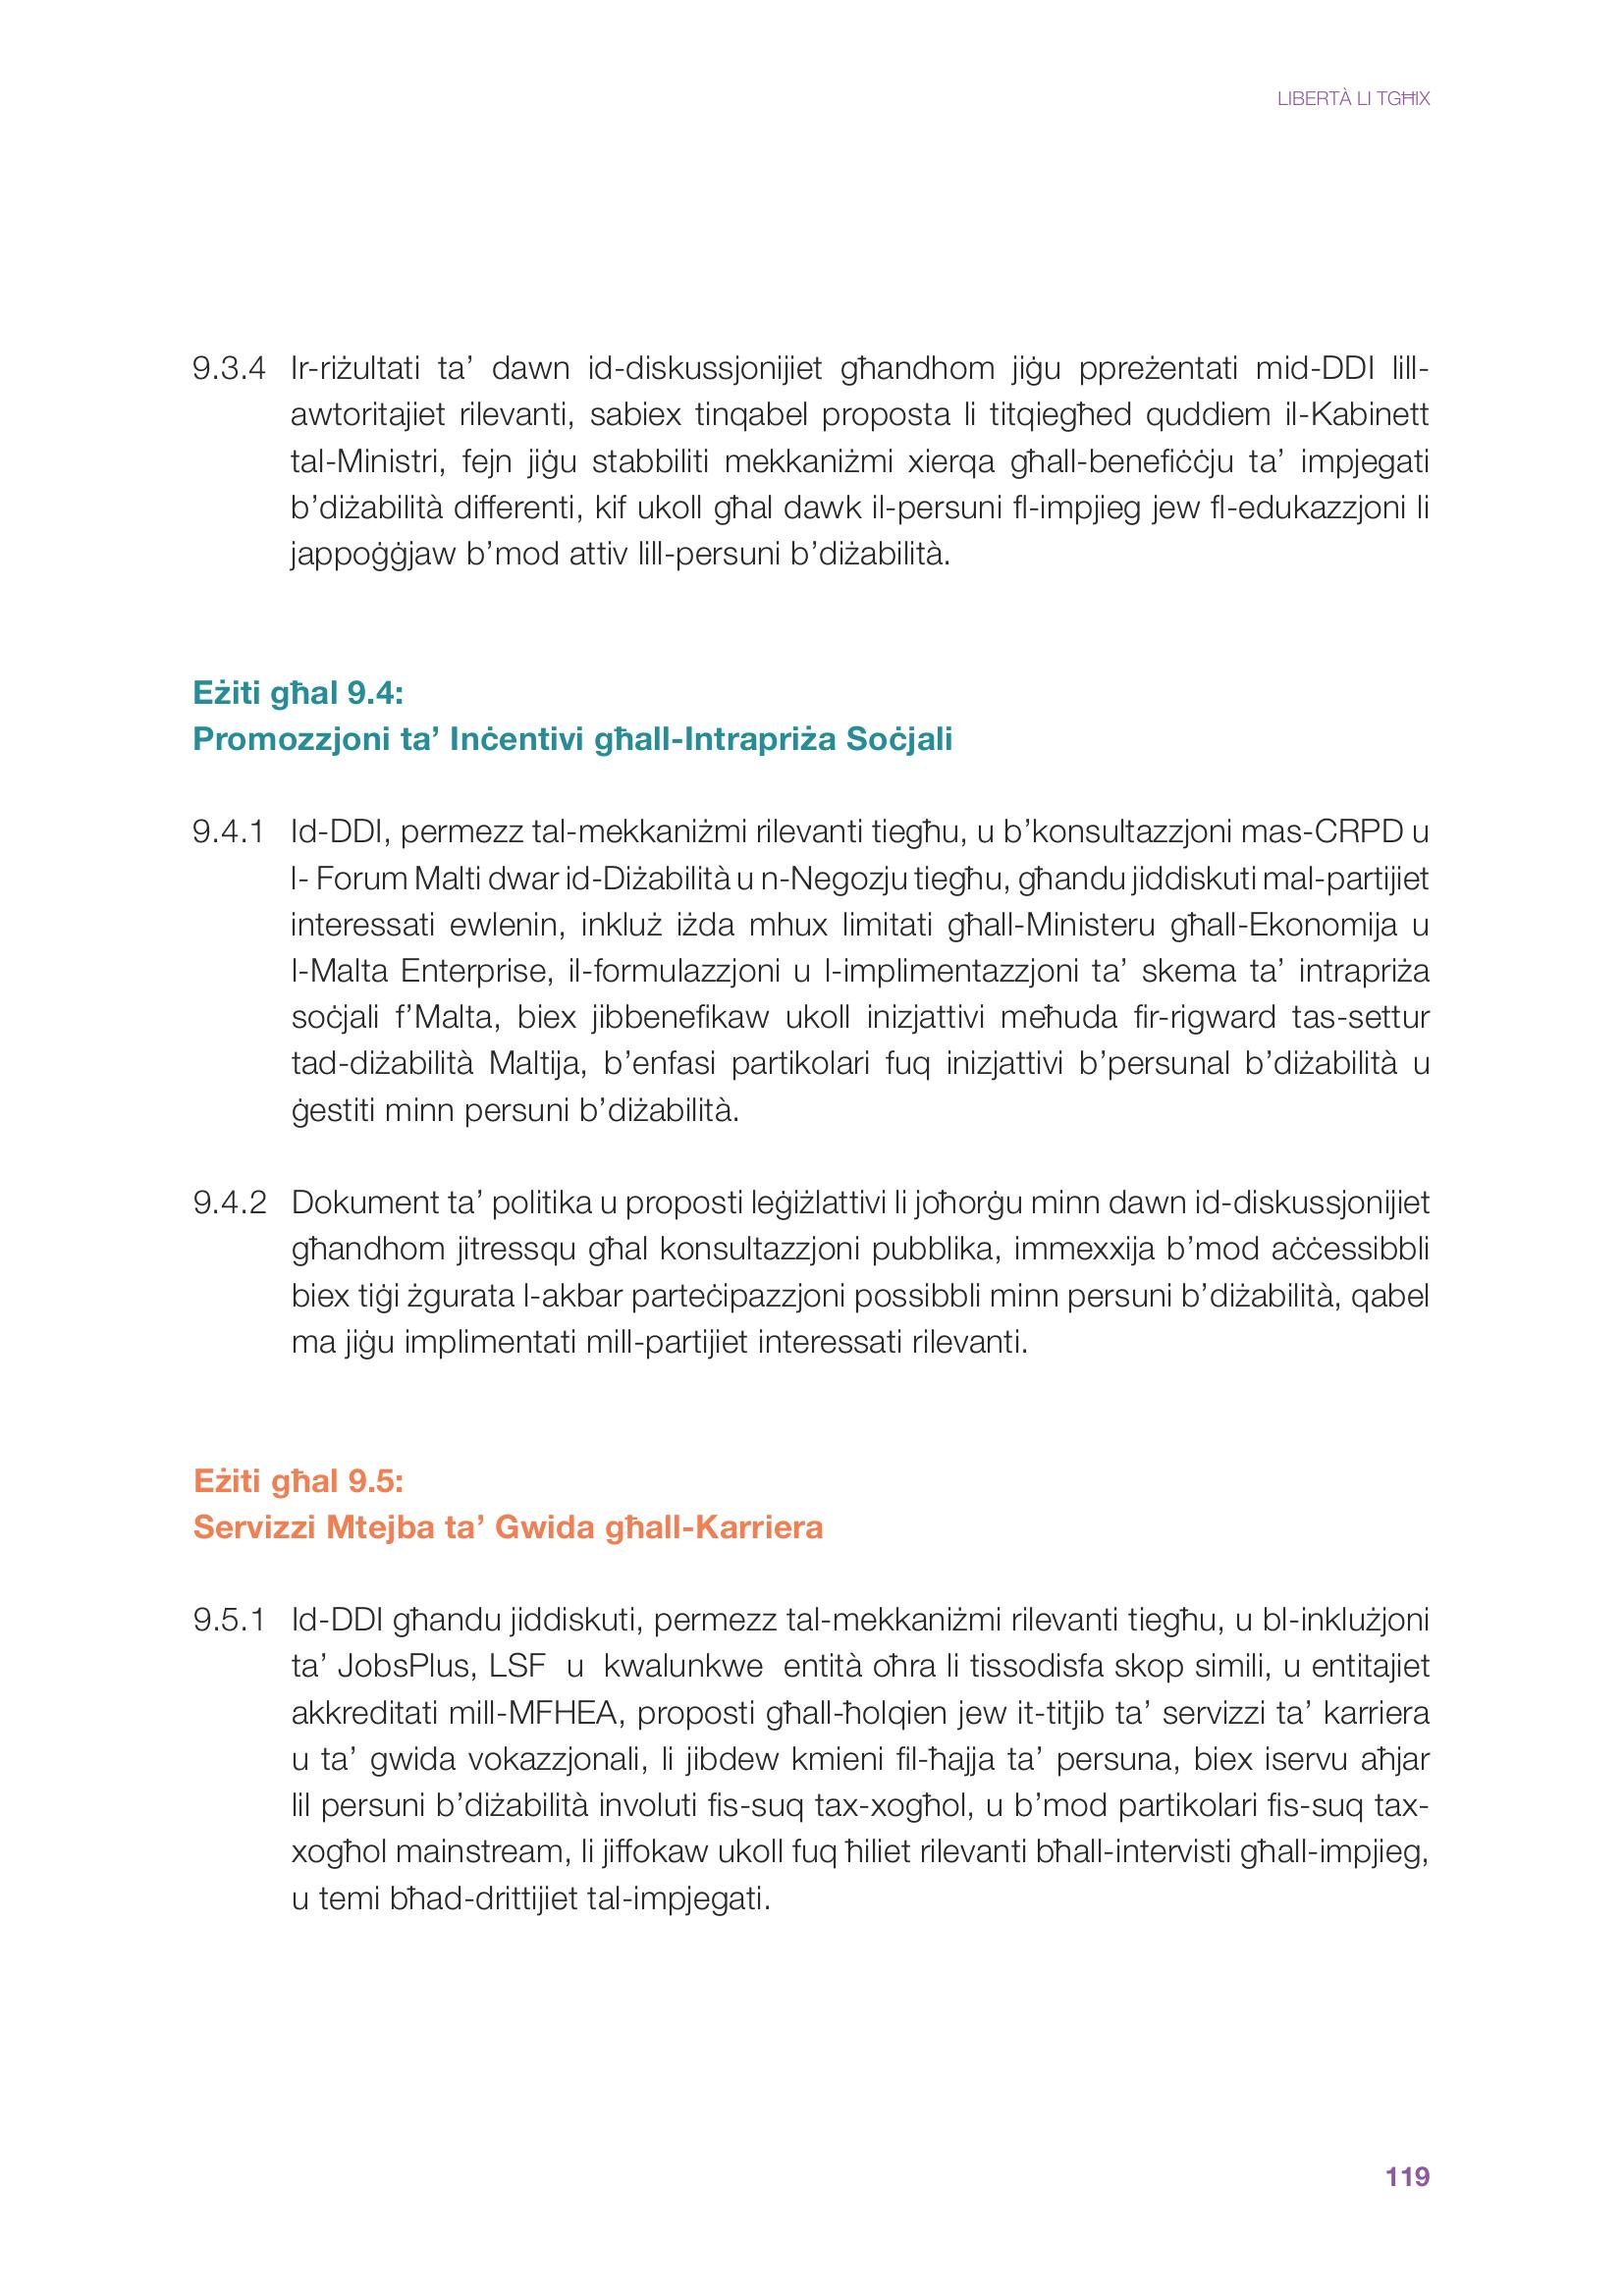text: (163, 311, 1466, 1943)
